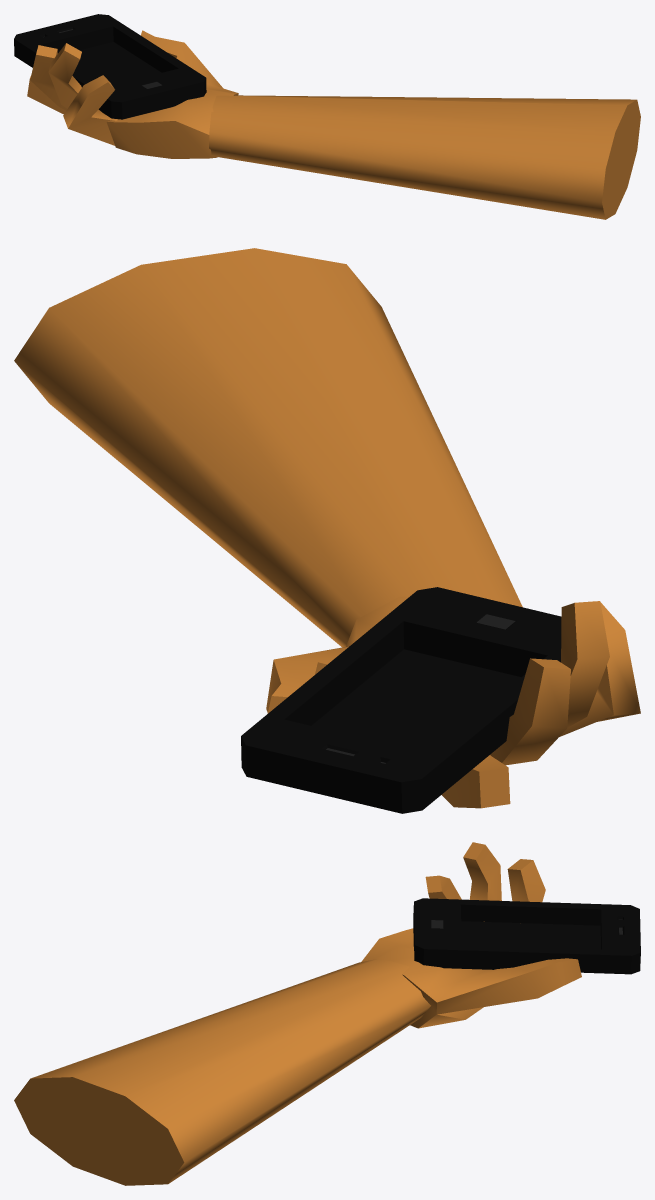
Rendered from BrazoYMovil.FBX.
The picture shows the model from 3 angles, top to bottom: view 1: azimuth 30°, elevation 25°; view 2: azimuth 150°, elevation 25°; view 3: azimuth 270°, elevation 25°; orthographic projection. The views are drawn at different scales.
Visible parts, largest first — view 1: Mano; view 2: Mano; view 3: Mano.
Part boxes in pixels (x1,y1,x2,y2): Mano: (14,14,640,219); Mano: (14,248,640,813); Mano: (14,842,640,1185).
Bounding box in the file's own units: 1.92 × 0.485 × 2.11.
